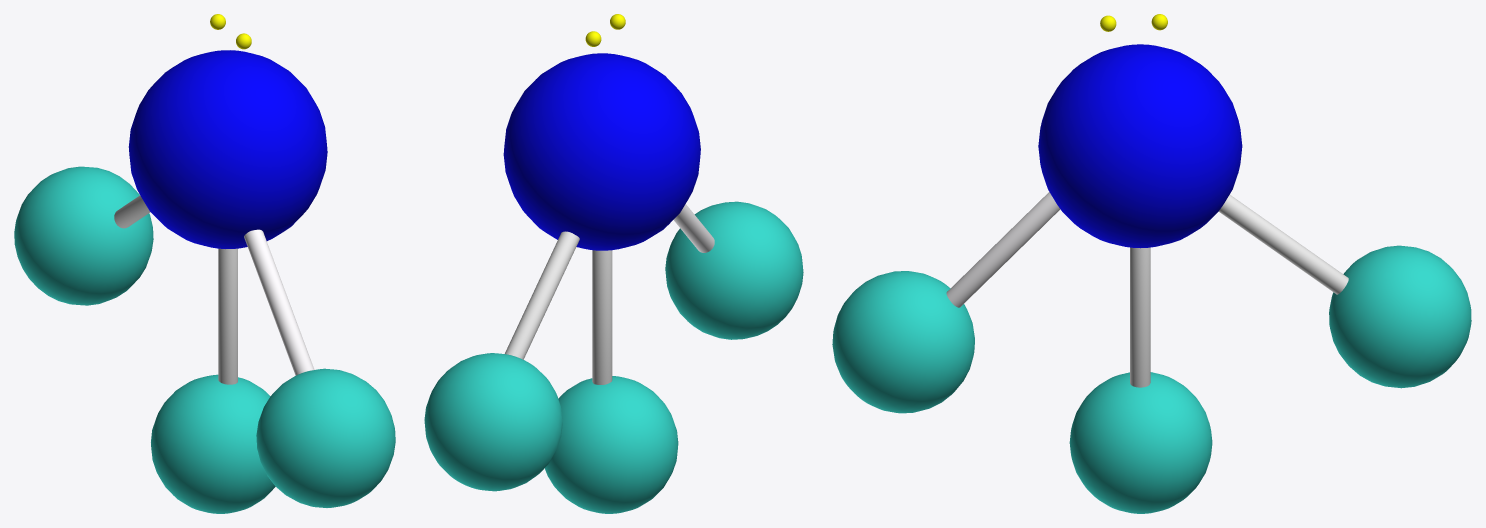
The model's file is NH3_molecule.fbx.
The picture shows the model from 3 angles, left to right: view 1: azimuth 30°, elevation 25°; view 2: azimuth 150°, elevation 25°; view 3: azimuth 270°, elevation 25°; orthographic projection. The views are drawn at different scales.
Visible parts, largest first — view 1: Sphere, Sphere.002, Sphere.004, Sphere.003, Cylinder.001, Cylinder, Cylinder.002; view 2: Sphere, Sphere.004, Sphere.002, Sphere.003, Cylinder, Cylinder.002, Cylinder.001; view 3: Sphere, Sphere.004, Sphere.002, Sphere.003, Cylinder.002, Cylinder.001, Cylinder.
Part boxes in pixels (x1=…): Sphere: x1=128, y1=50, x2=327, y2=248; Sphere.002: x1=256, y1=368, x2=395, y2=507; Sphere.004: x1=14, y1=166, x2=153, y2=305; Sphere.003: x1=151, y1=374, x2=275, y2=513; Cylinder.001: x1=244, y1=229, x2=314, y2=375; Cylinder: x1=218, y1=248, x2=237, y2=384; Cylinder.002: x1=114, y1=195, x2=150, y2=228; Sphere: x1=503, y1=53, x2=700, y2=250; Sphere.004: x1=424, y1=353, x2=562, y2=491; Sphere.002: x1=665, y1=201, x2=803, y2=339; Sphere.003: x1=544, y1=376, x2=678, y2=513; Cylinder: x1=592, y1=250, x2=612, y2=384; Cylinder.002: x1=505, y1=231, x2=579, y2=359; Cylinder.001: x1=673, y1=204, x2=714, y2=252; Sphere: x1=1038, y1=44, x2=1242, y2=248; Sphere.004: x1=1329, y1=245, x2=1471, y2=388; Sphere.002: x1=832, y1=271, x2=974, y2=413; Sphere.003: x1=1069, y1=372, x2=1212, y2=513; Cylinder.002: x1=1219, y1=195, x2=1348, y2=294; Cylinder.001: x1=946, y1=192, x2=1060, y2=307; Cylinder: x1=1130, y1=247, x2=1150, y2=387.
Bounding box in the file's own units: 200 × 537 × 627.
